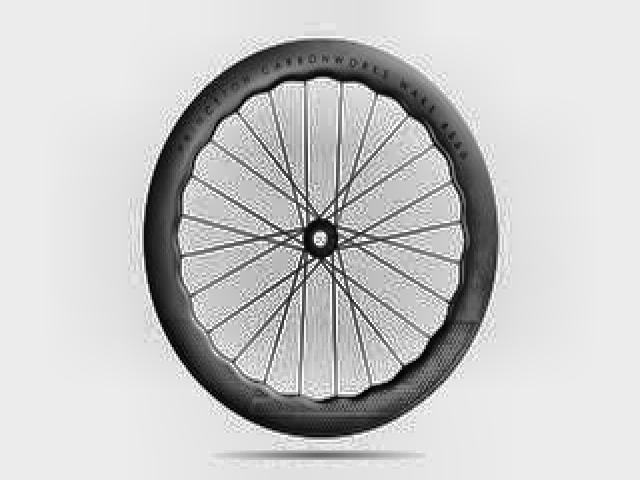wheel: (138, 31, 502, 448)
